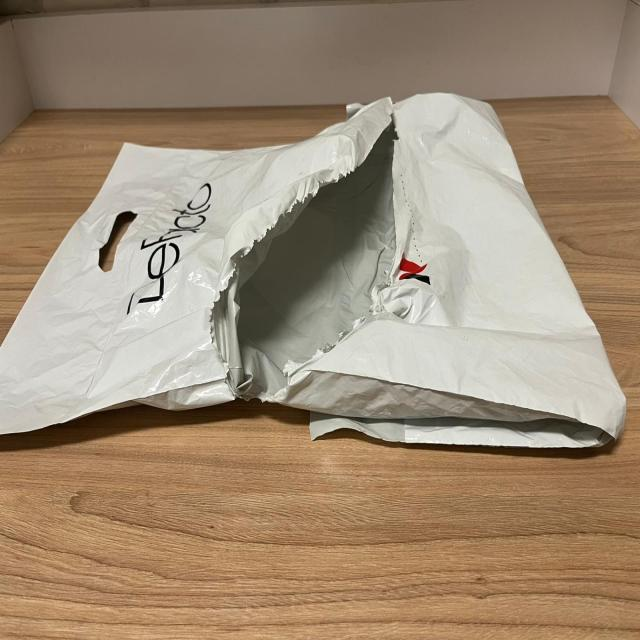damaged_package: (1, 93, 626, 459)
